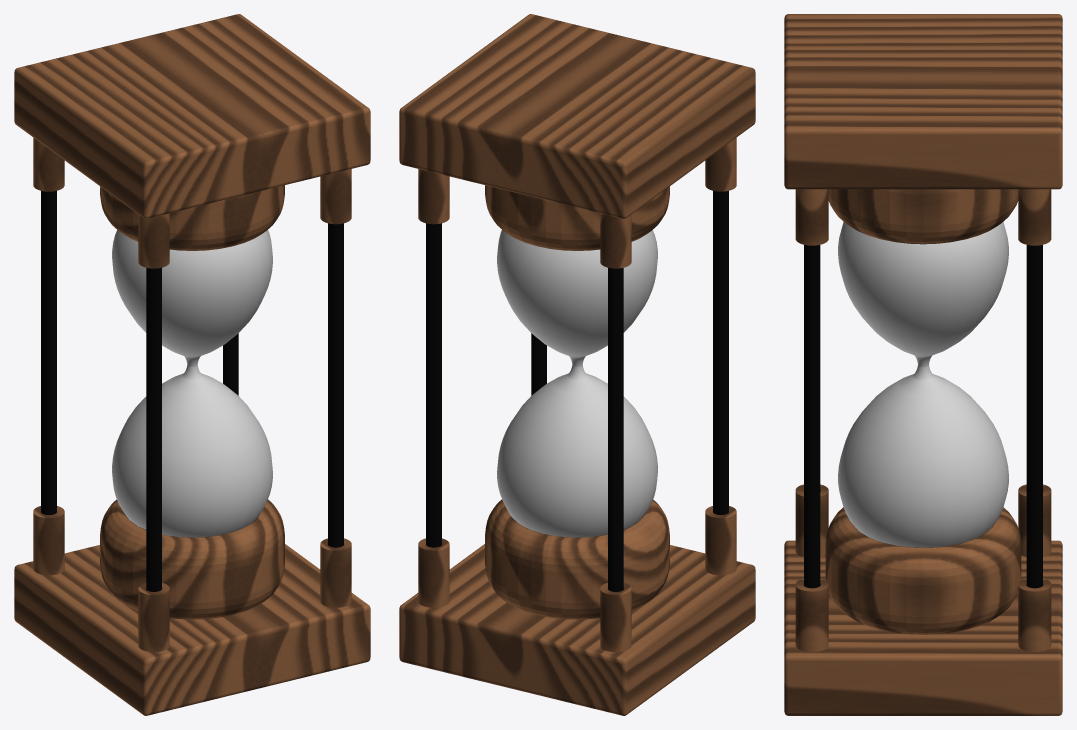
Rendered from _ourglass.fbx.
The picture shows the model from 3 angles, left to right: view 1: azimuth 30°, elevation 25°; view 2: azimuth 150°, elevation 25°; view 3: azimuth 270°, elevation 25°; orthographic projection. The views are drawn at different scales.
Parts seen in each view (by area): view 1: CubeB, Glass, CubeA, RingA, RingB, Cylinder, Cylinder_3, Cylinder_4, Tube_2, Tube_8, Tube_6, Tube_7 (+3 smaller); view 2: CubeB, Glass, CubeA, RingA, RingB, Cylinder_2, Cylinder_4, Cylinder_3, Tube_4, Tube_6, Tube_8, Tube_5 (+3 smaller); view 3: CubeB, Glass, CubeA, RingA, RingB, Cylinder, Cylinder_2, Tube_2, Tube_4, Tube, Tube_3, Tube_6 (+1 smaller).
Part boxes in pixels (x1,y1,x2,y2): CubeB: (14,14,370,218); Glass: (112,230,272,537); CubeA: (14,544,370,715); RingA: (100,499,284,619); RingB: (100,185,284,250); Cylinder: (328,223,343,547); Cylinder_3: (41,191,56,514); Cylinder_4: (146,267,161,591); Tube_2: (320,538,351,607); Tube_8: (138,583,169,652); Tube_6: (33,506,64,575); Tube_7: (138,213,169,268); CubeB: (399,14,755,218); Glass: (497,230,657,537); CubeA: (399,544,755,715); RingA: (485,499,669,619); RingB: (485,185,669,250); Cylinder_2: (426,223,441,547); Cylinder_4: (713,191,728,514); Cylinder_3: (608,267,623,591); Tube_4: (418,538,449,607); Tube_6: (600,583,631,652); Tube_8: (705,506,736,575); Tube_5: (600,213,631,268); CubeB: (784,14,1062,189); Glass: (838,222,1008,547); CubeA: (784,540,1062,715); RingA: (825,507,1021,634); RingB: (828,189,1018,244); Cylinder: (804,245,820,588); Cylinder_2: (1026,245,1042,588); Tube_2: (795,578,828,651); Tube_4: (1018,578,1051,651); Tube: (795,189,828,245); Tube_3: (1018,189,1051,245); Tube_6: (1018,484,1051,556).
Bounding box in the file's own units: 7 × 16.3 × 7.
2 materials, 1 textured.
